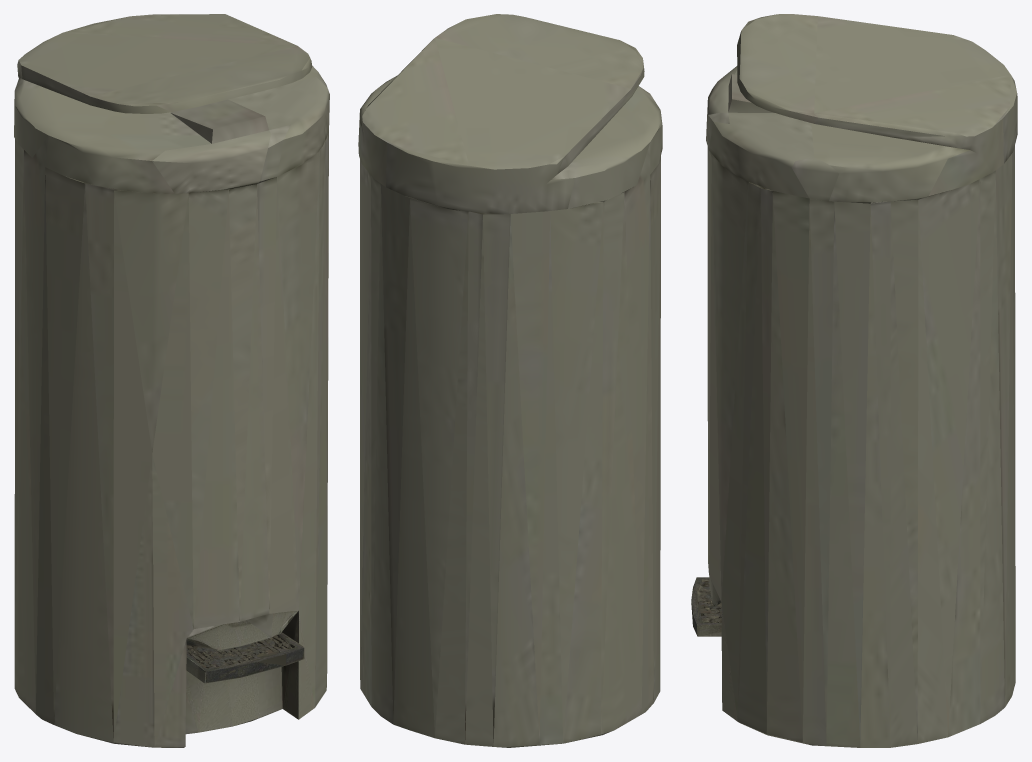
Rendered from cestino_A.glb.
The picture shows the model from 3 angles, left to right: view 1: azimuth 30°, elevation 25°; view 2: azimuth 150°, elevation 25°; view 3: azimuth 270°, elevation 25°; orthographic projection. The views are drawn at different scales.
Visible parts, largest first — view 1: Mesh_0; view 2: Mesh_0; view 3: Mesh_0.
Boxes of the visible parts, x1=… form: Mesh_0: x1=14, y1=14, x2=329, y2=747; Mesh_0: x1=358, y1=14, x2=662, y2=747; Mesh_0: x1=691, y1=14, x2=1017, y2=747.
Bounding box in the file's own units: 0.2236 × 0.5 × 0.2354.
1 material, 1 textured.
